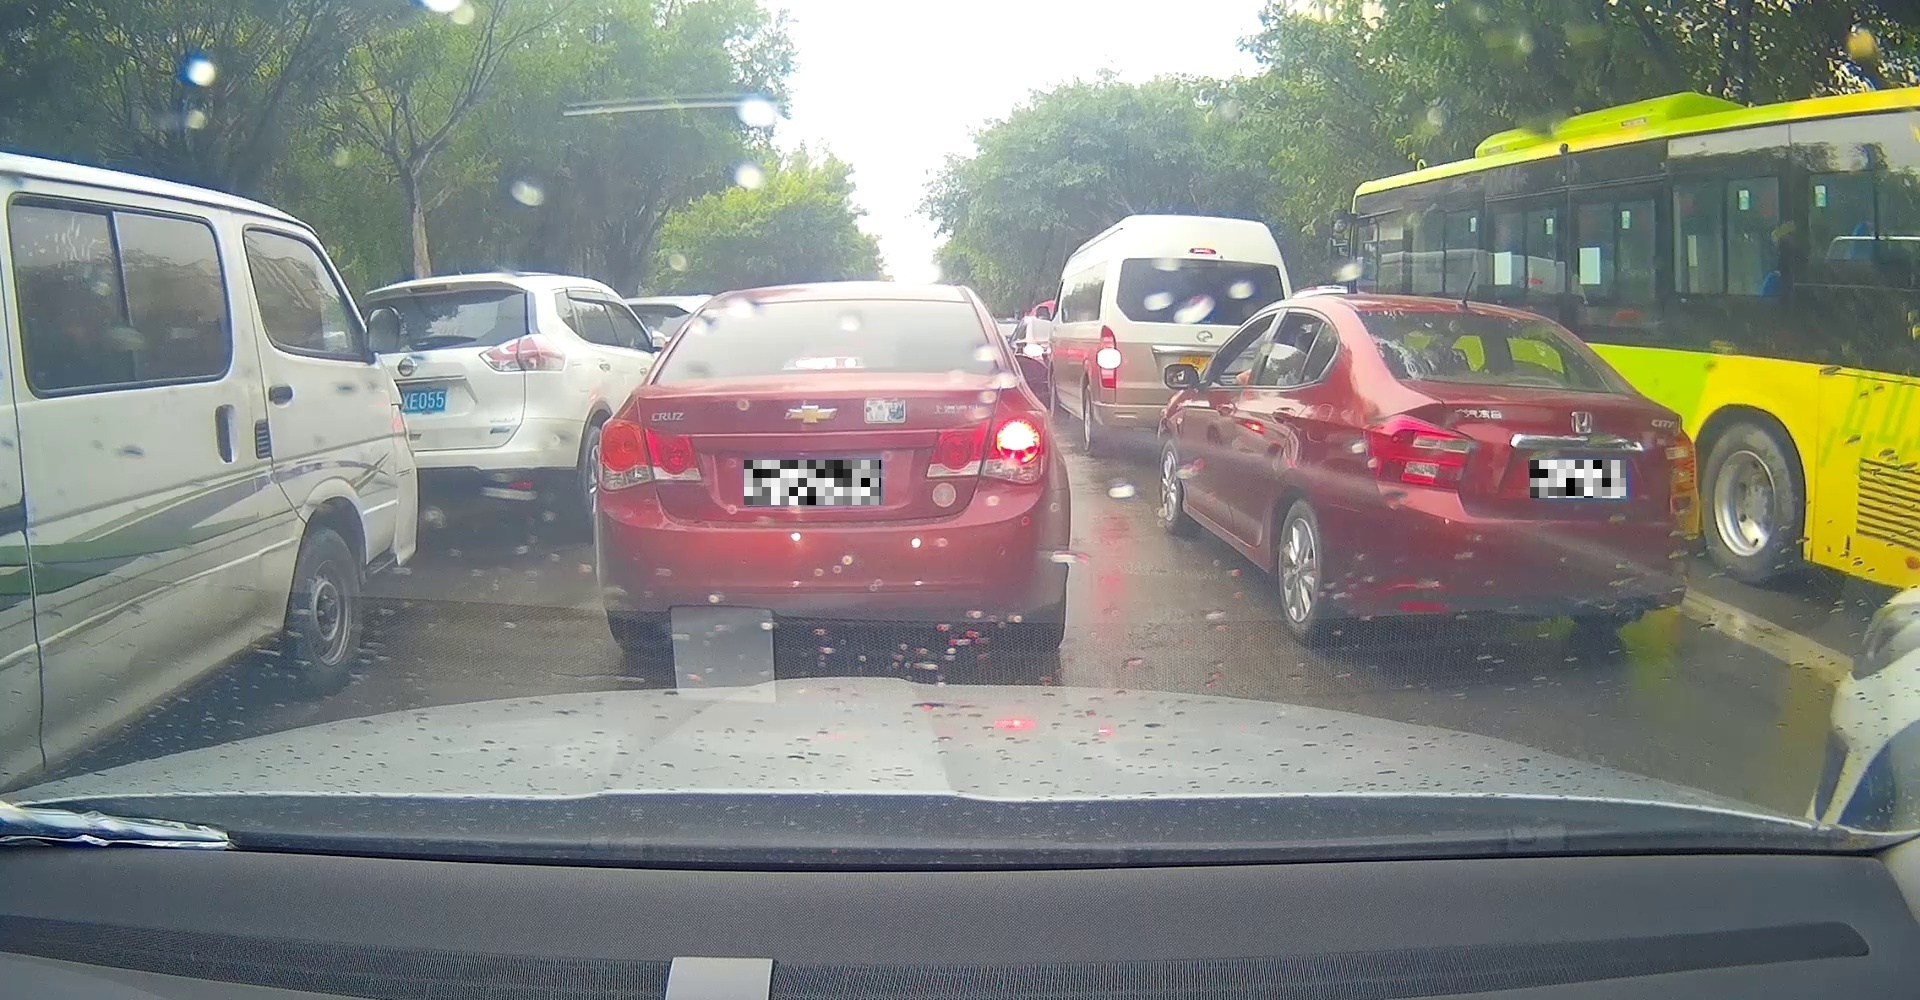L_light: (1364, 414, 1474, 489), (597, 419, 702, 489)
R_light: (927, 412, 1048, 484), (1663, 428, 1695, 489)
T_light: (789, 357, 865, 368), (1451, 311, 1502, 321)
day-no: (1343, 301, 1698, 647)
day-right: (596, 286, 1070, 650)
plate_1: (744, 459, 881, 505)
plate_2: (1530, 459, 1625, 497)
